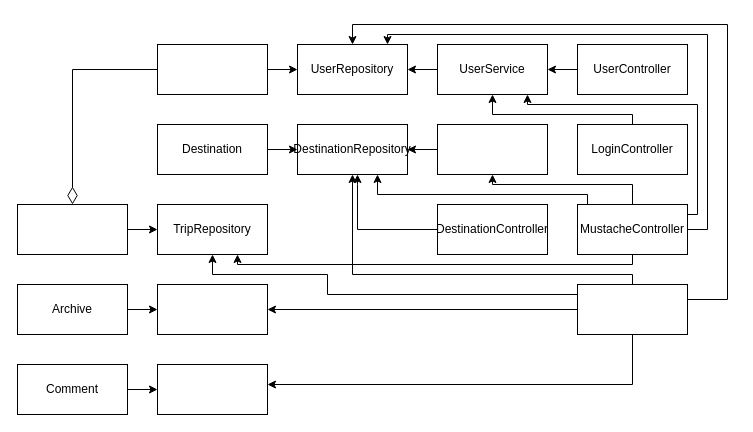
Image size: 753x432. Some labels were removed from this diagram. The centre of each missing label's shape, as x and y in pixels:
ArchiveRepository: the point at 212,309
CommentRepository: the point at 212,389
DestinationService: the point at 492,149
TestDataInitializer: the point at 632,309
Trip: the point at 72,229
User: the point at 212,69
